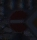No entry: (6, 6, 32, 35)
